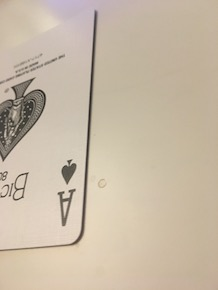AceOfSpades: (1, 8, 97, 253)
